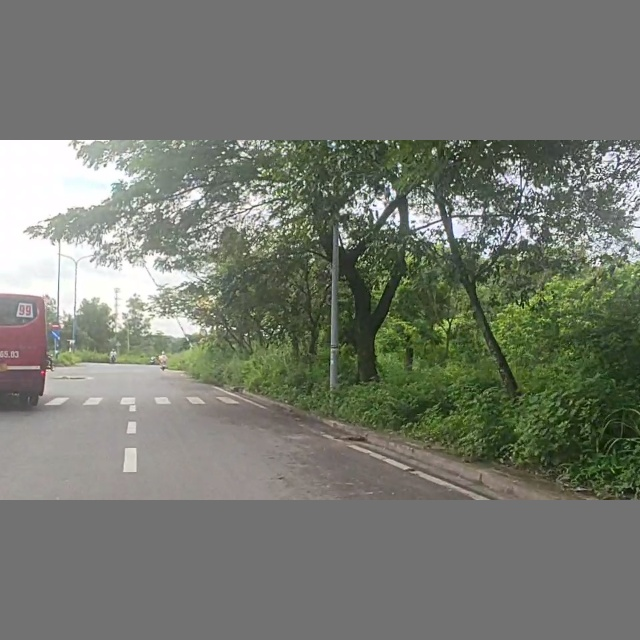P.102: (50, 321, 61, 331)
R.302a: (50, 331, 61, 339)
